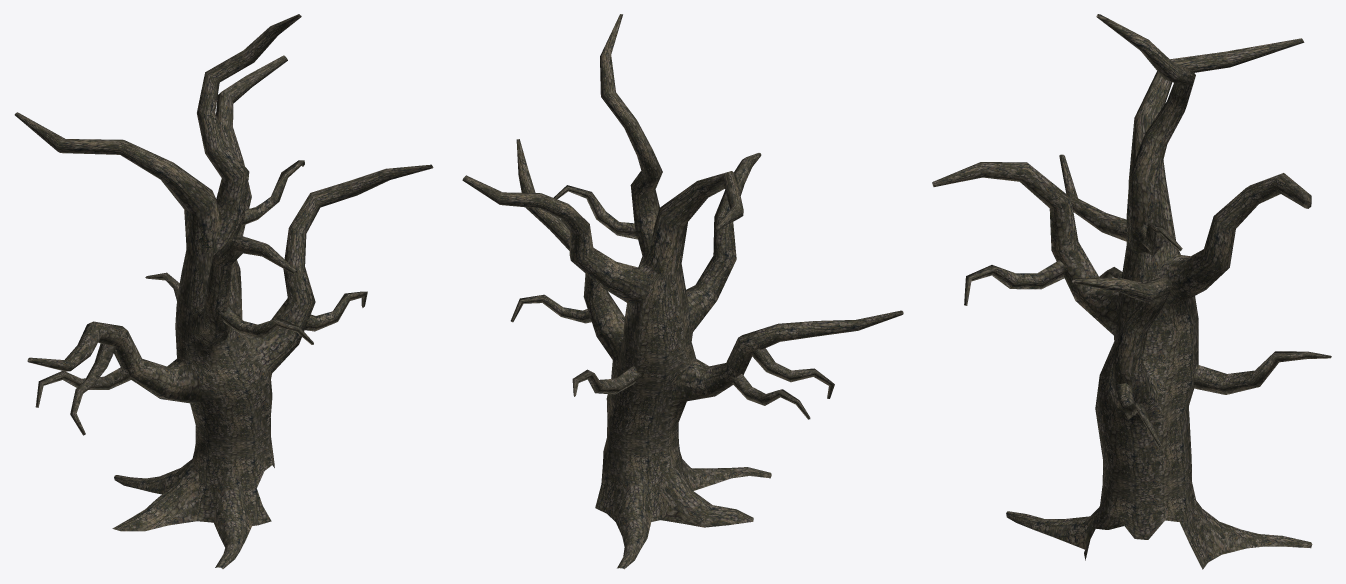
Rendered from EKH_ENTRANCE_PS_EN_TREE001__GX.fbx.
3 views of the same model, side by side, from view 1: azimuth 30°, elevation 25°; view 2: azimuth 150°, elevation 25°; view 3: azimuth 270°, elevation 25° (orthographic). The views are drawn at different scales.
Visible parts, largest first — view 1: EKH_ENTRANCE_PS_EN_TREE001__GX; view 2: EKH_ENTRANCE_PS_EN_TREE001__GX; view 3: EKH_ENTRANCE_PS_EN_TREE001__GX.
Boxes of the visible parts, left/top/right/bottom form: EKH_ENTRANCE_PS_EN_TREE001__GX: left=14, top=14, right=433, bottom=568; EKH_ENTRANCE_PS_EN_TREE001__GX: left=462, top=14, right=903, bottom=569; EKH_ENTRANCE_PS_EN_TREE001__GX: left=932, top=14, right=1331, bottom=569.
Size of the model in its own units: 261225 by 309845 by 192619.
3 materials, 3 textured.
